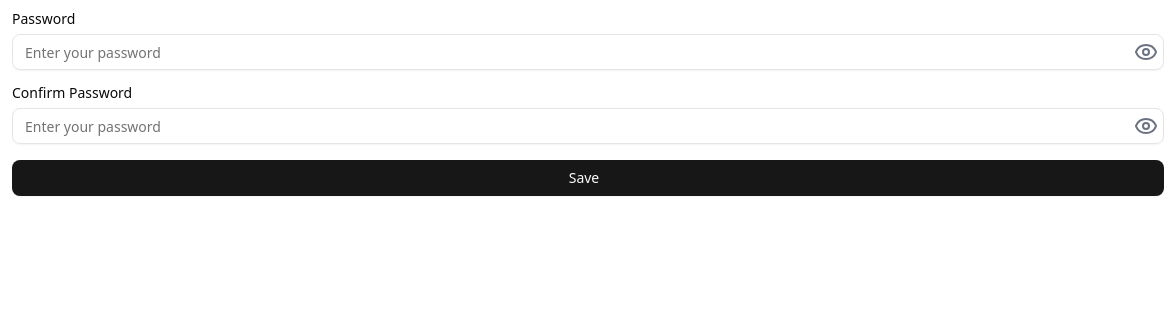
Reset password Form component for FAILURE response › should display error message when reset-password fails
In the password field with test id "field-password": (588,52) [12,34,1164,70], type "Test@001"
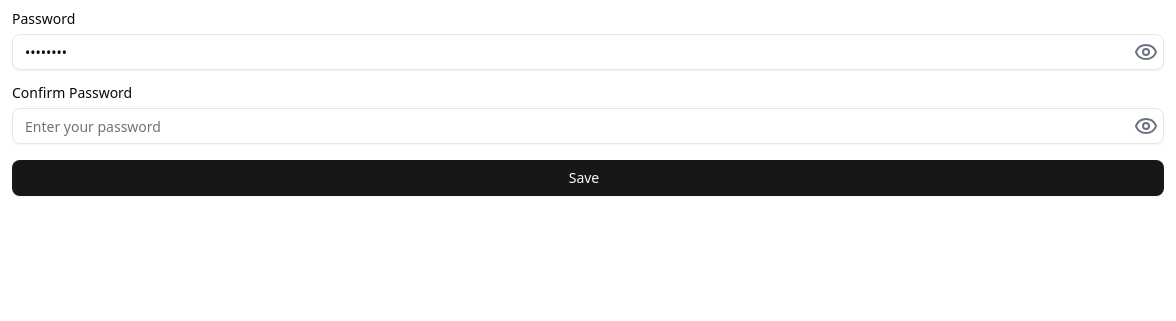
In the password field with test id "field-confirmpassword": (588,126) [12,108,1164,144], type "Test@001"
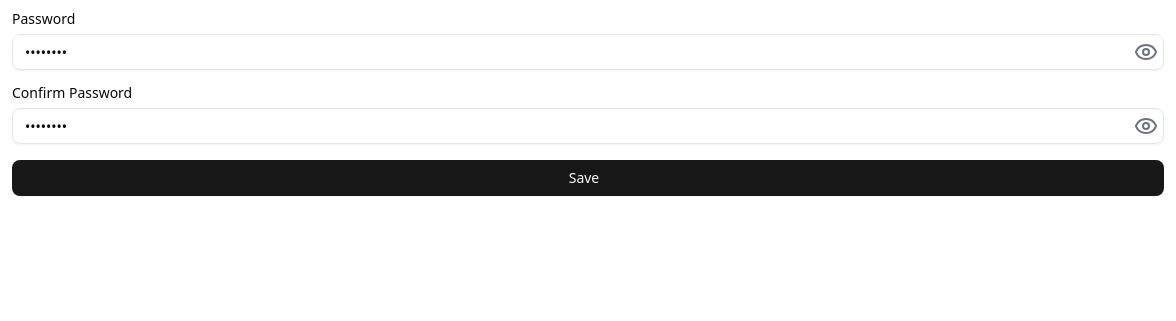
Click the button with test id "button-submit": (588,178) [12,160,1164,196]
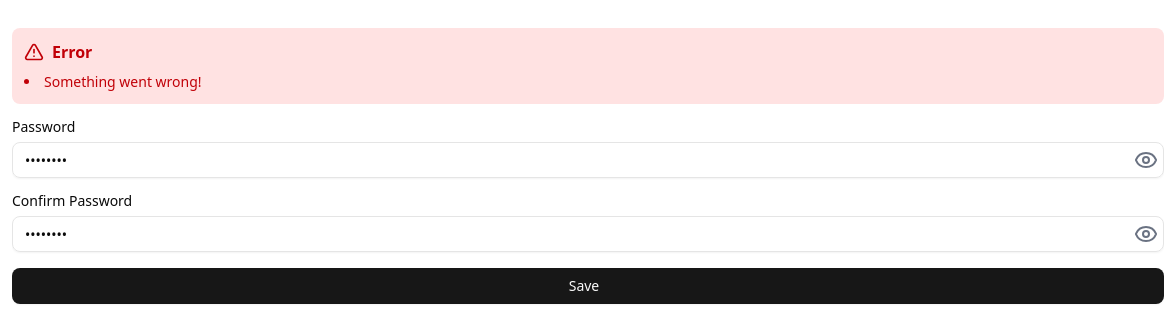
Expected: the element with test id "reset-password-form-errors" is shown, [12,28,1164,104]
